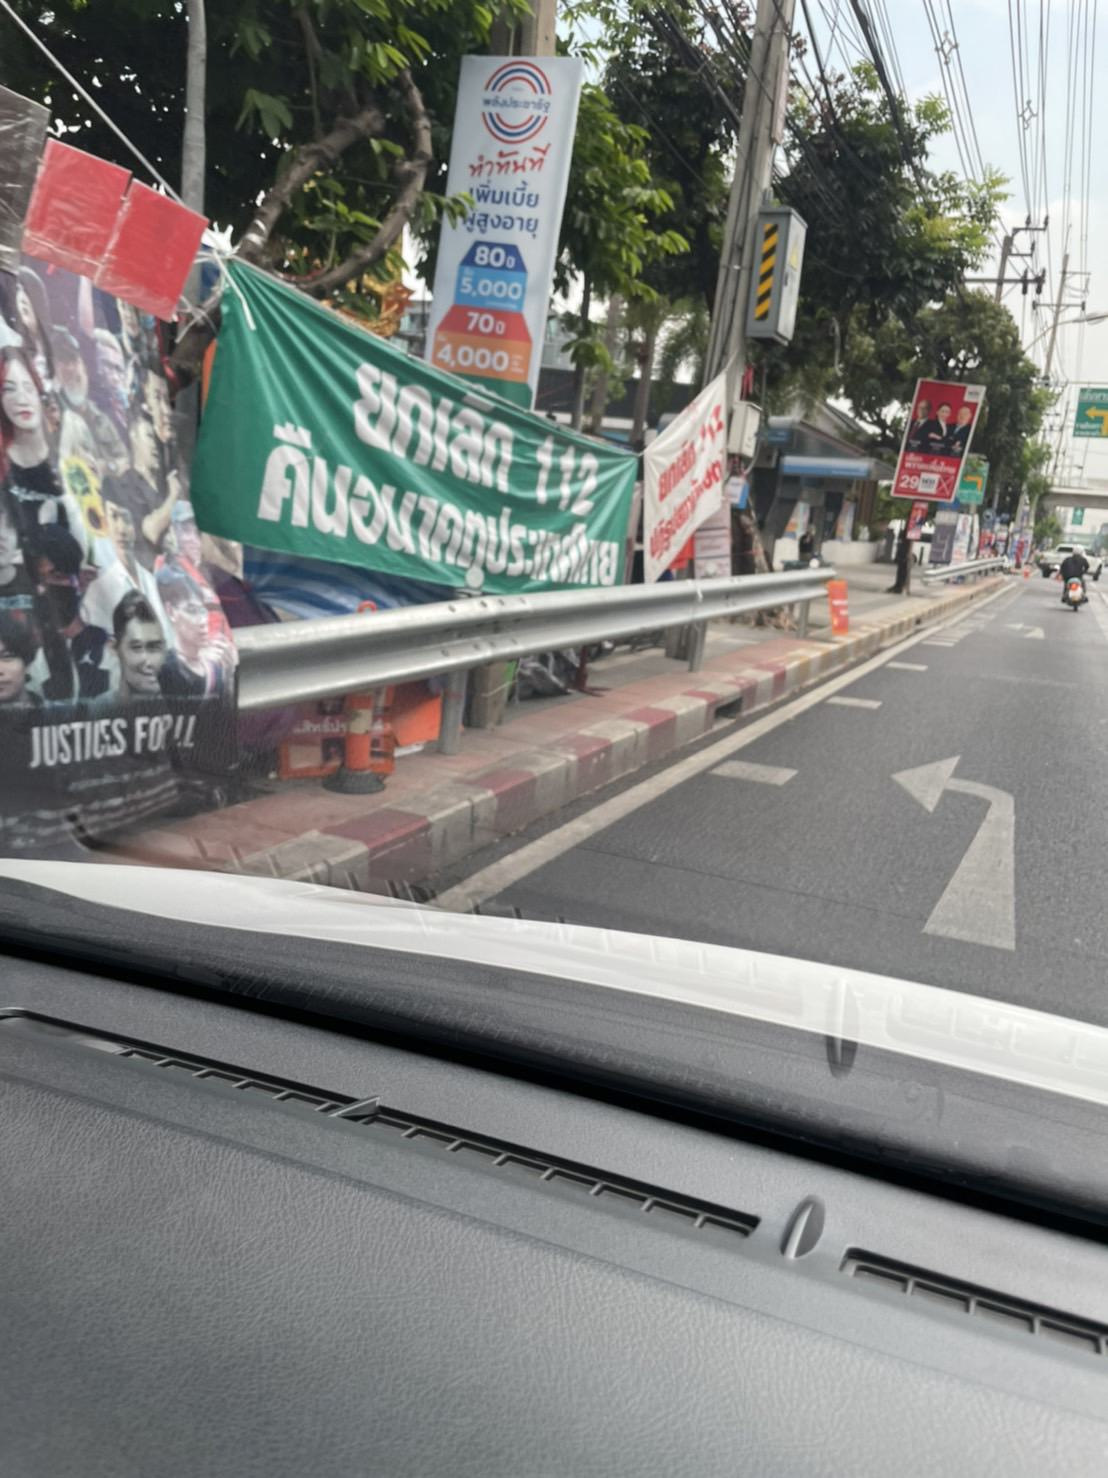Banner: (416, 35, 584, 381)
